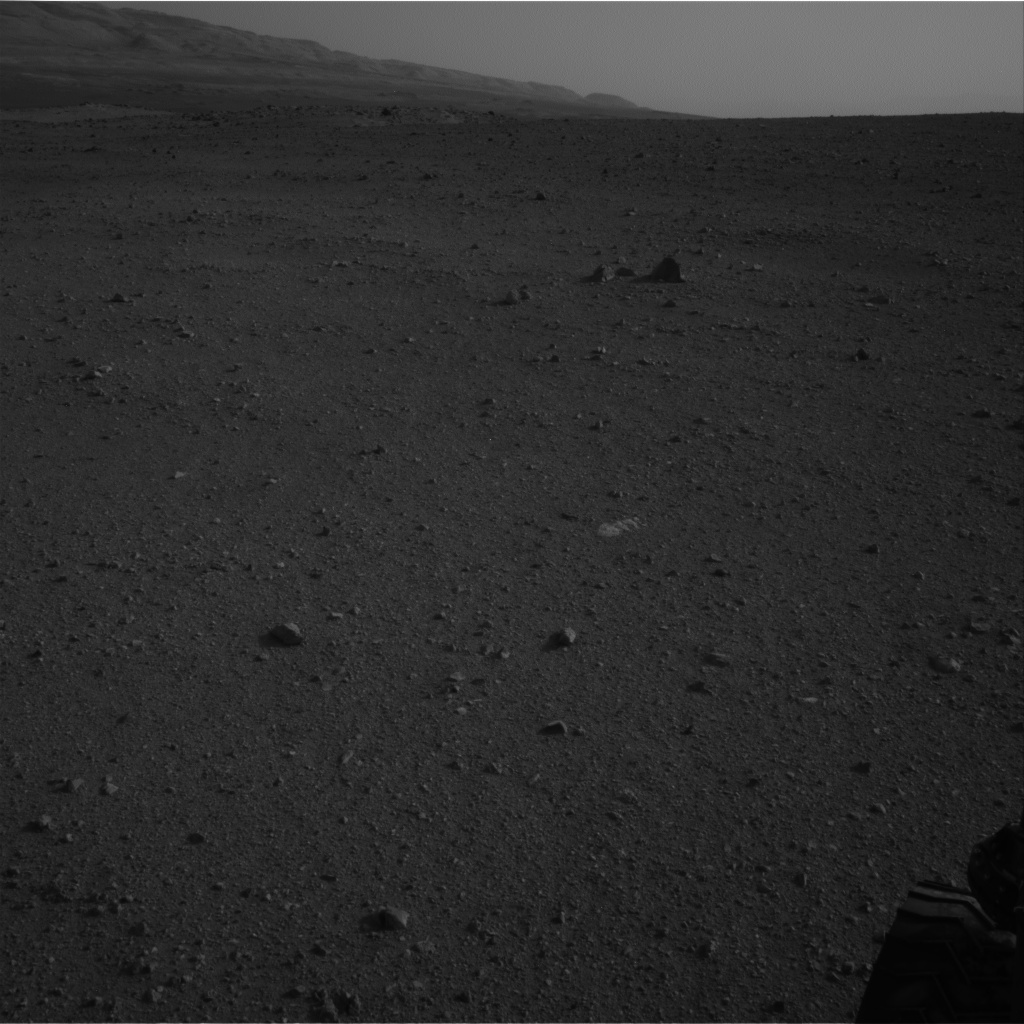soil: (3, 138, 1021, 1020)
